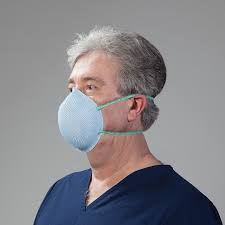mask: (54, 42, 153, 160)
